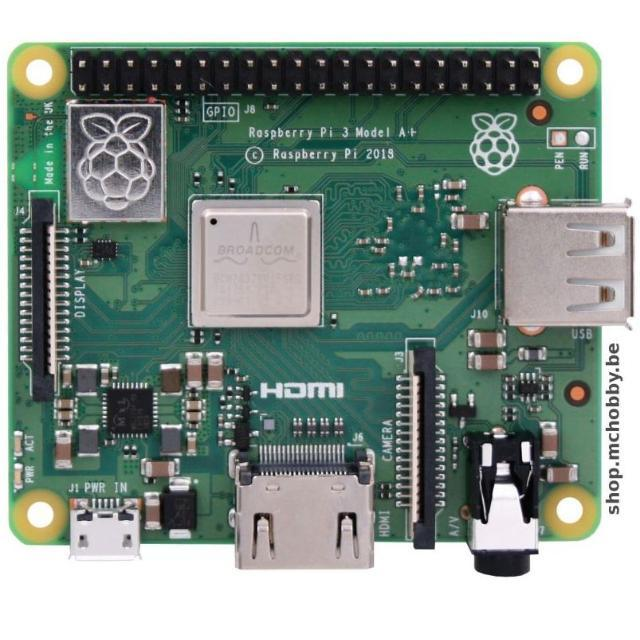Raspberry-Pi-3-A-: (10, 44, 633, 576)
